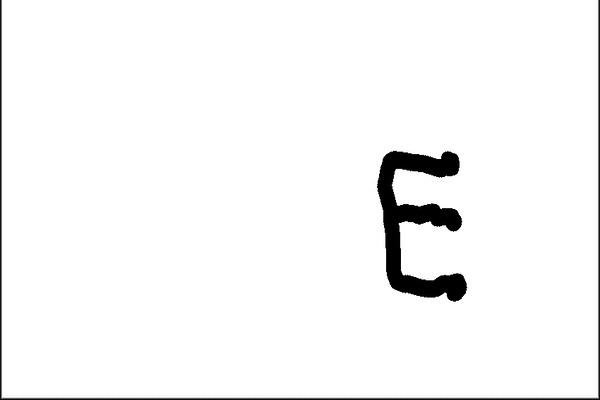E: (370, 142, 477, 308)
